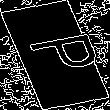P_E: (10, 30, 100, 80)
